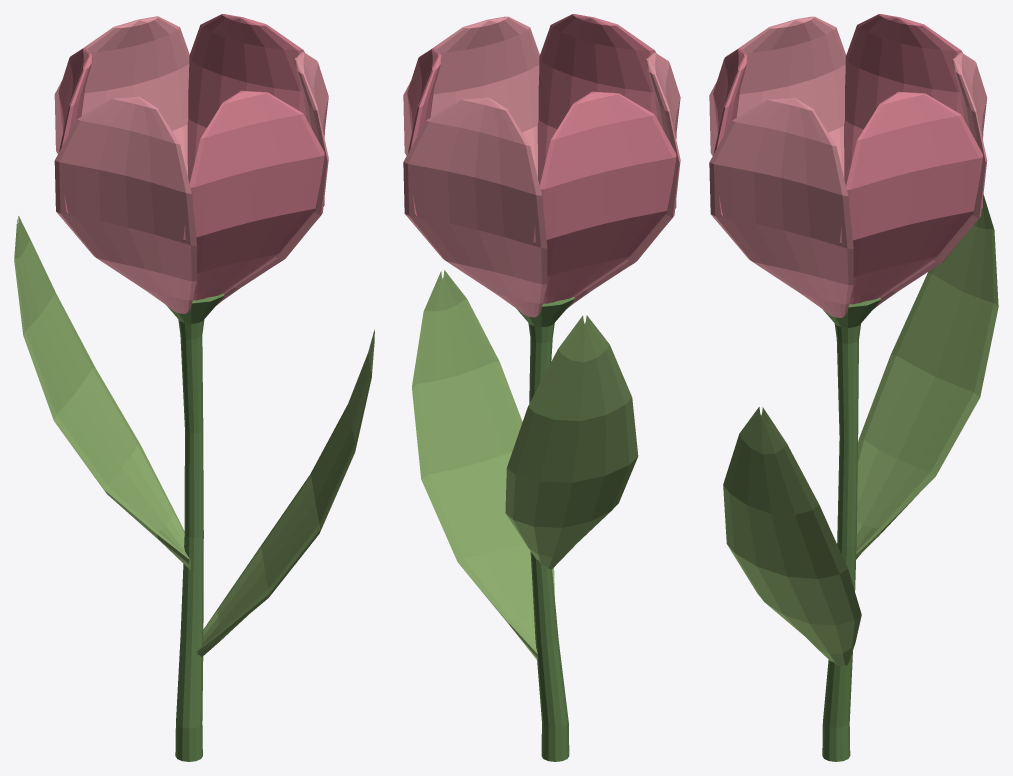
3 views of the same model, side by side, from view 1: azimuth 30°, elevation 25°; view 2: azimuth 150°, elevation 25°; view 3: azimuth 270°, elevation 25° (orthographic).
Visible parts, largest first — view 1: WholeThickUprightCuppedTulipPetal5, WholeThickUprightCuppedTulipPetal0, WholeBroadUpturnedClaspingTulipLeaf1, WholeBroadUpturnedClaspingTulipLeaf0, WholeGentlyBowedTulipStem, WholeThickUprightCuppedTulipPetal2, WholeThickUprightCuppedTulipPetal3, WholeThickUprightCuppedTulipPetal1, WholeThickUprightCuppedTulipPetal4, WholeSmallTulipReceptacle; view 2: WholeBroadUpturnedClaspingTulipLeaf0, WholeThickUprightCuppedTulipPetal3, WholeBroadUpturnedClaspingTulipLeaf1, WholeThickUprightCuppedTulipPetal4, WholeThickUprightCuppedTulipPetal0, WholeThickUprightCuppedTulipPetal1, WholeGentlyBowedTulipStem, WholeThickUprightCuppedTulipPetal5, WholeThickUprightCuppedTulipPetal2, WholeSmallTulipReceptacle; view 3: WholeBroadUpturnedClaspingTulipLeaf1, WholeThickUprightCuppedTulipPetal1, WholeThickUprightCuppedTulipPetal2, WholeBroadUpturnedClaspingTulipLeaf0, WholeThickUprightCuppedTulipPetal4, WholeThickUprightCuppedTulipPetal5, WholeGentlyBowedTulipStem, WholeThickUprightCuppedTulipPetal3, WholeThickUprightCuppedTulipPetal0, WholeSmallTulipReceptacle.
Boxes of the visible parts, box(x1,y1,x2,y2) form: WholeThickUprightCuppedTulipPetal5: box(54, 96, 197, 313); WholeThickUprightCuppedTulipPetal0: box(183, 90, 324, 300); WholeBroadUpturnedClaspingTulipLeaf1: box(14, 216, 190, 569); WholeBroadUpturnedClaspingTulipLeaf0: box(197, 329, 374, 656); WholeGentlyBowedTulipStem: box(175, 319, 204, 761); WholeThickUprightCuppedTulipPetal2: box(187, 14, 324, 183); WholeThickUprightCuppedTulipPetal3: box(54, 16, 189, 176); WholeThickUprightCuppedTulipPetal1: box(216, 52, 328, 305); WholeThickUprightCuppedTulipPetal4: box(58, 47, 92, 213); WholeSmallTulipReceptacle: box(166, 293, 224, 323); WholeBroadUpturnedClaspingTulipLeaf0: box(412, 270, 554, 659); WholeThickUprightCuppedTulipPetal3: box(403, 97, 547, 317); WholeBroadUpturnedClaspingTulipLeaf1: box(505, 315, 638, 569); WholeThickUprightCuppedTulipPetal4: box(533, 91, 676, 303); WholeThickUprightCuppedTulipPetal0: box(537, 14, 676, 184); WholeThickUprightCuppedTulipPetal1: box(403, 16, 539, 177); WholeGentlyBowedTulipStem: box(528, 323, 569, 761); WholeThickUprightCuppedTulipPetal5: box(567, 52, 680, 308); WholeThickUprightCuppedTulipPetal2: box(407, 48, 441, 215); WholeSmallTulipReceptacle: box(516, 296, 574, 327); WholeBroadUpturnedClaspingTulipLeaf1: box(856, 194, 998, 558); WholeThickUprightCuppedTulipPetal1: box(709, 97, 853, 317); WholeThickUprightCuppedTulipPetal2: box(839, 91, 982, 304); WholeBroadUpturnedClaspingTulipLeaf0: box(723, 407, 861, 666); WholeThickUprightCuppedTulipPetal4: box(844, 14, 983, 185); WholeThickUprightCuppedTulipPetal5: box(709, 16, 846, 177); WholeGentlyBowedTulipStem: box(822, 324, 860, 761); WholeThickUprightCuppedTulipPetal3: box(873, 52, 987, 309); WholeThickUprightCuppedTulipPetal0: box(713, 48, 747, 216); WholeSmallTulipReceptacle: box(823, 297, 881, 327).
Size of the model in its own units: 0.7139 by 1.67 by 0.623.
